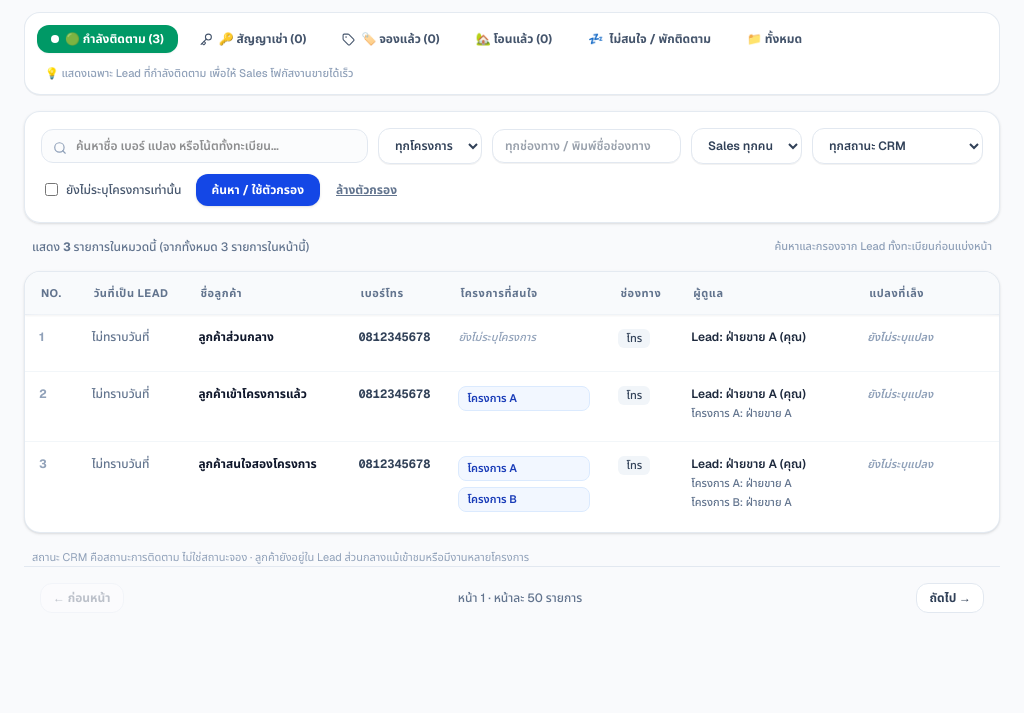
Test: central lead workspace › applies filters explicitly against the whole registry and resets pagination
This screenshot has width=1024, height=713.
(page scrolled)
Check: the table is shown, box x1=25 y1=272 x2=999 y2=532
Click the button "ถัดไป →".
click(950, 598)  # box x1=916 y1=583 x2=984 y2=613
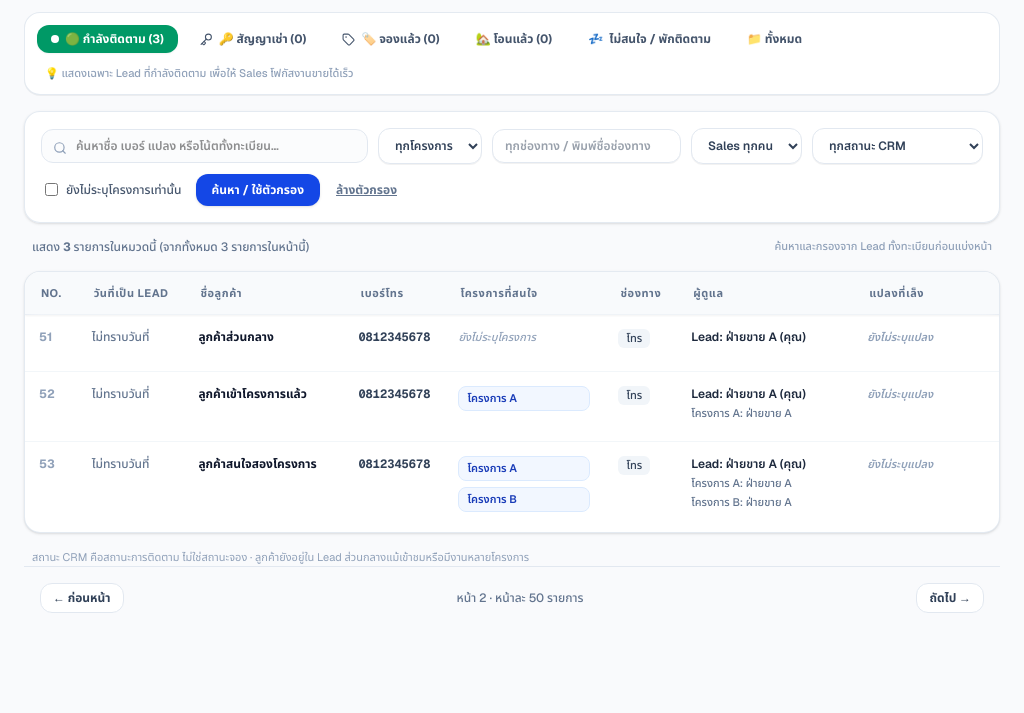
Check: the text "หน้า 2 · หน้าละ 50 รายการ" is shown, box x1=456 y1=590 x2=584 y2=606
Type "ลูกค้าส่วนกลาง" into the field named "ค้นหาลูกค้าทั้งทะเบียน".
click(204, 146); type("ลูกค้าส่วนกลาง")  # box x1=41 y1=128 x2=368 y2=162
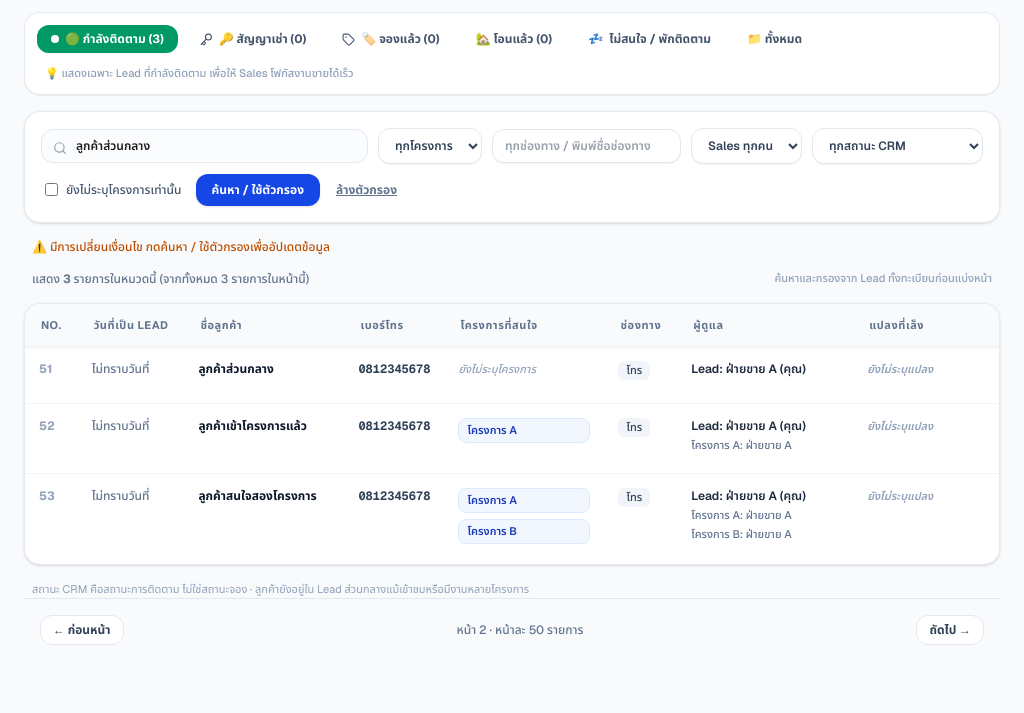
Check: the text "ลูกค้าสนใจสองโครงการ" is shown, box x1=198 y1=488 x2=330 y2=504
Click the button "ค้นหา / ใช้ตัวกรอง".
click(258, 190)  # box x1=196 y1=174 x2=320 y2=206
(page scrolled)
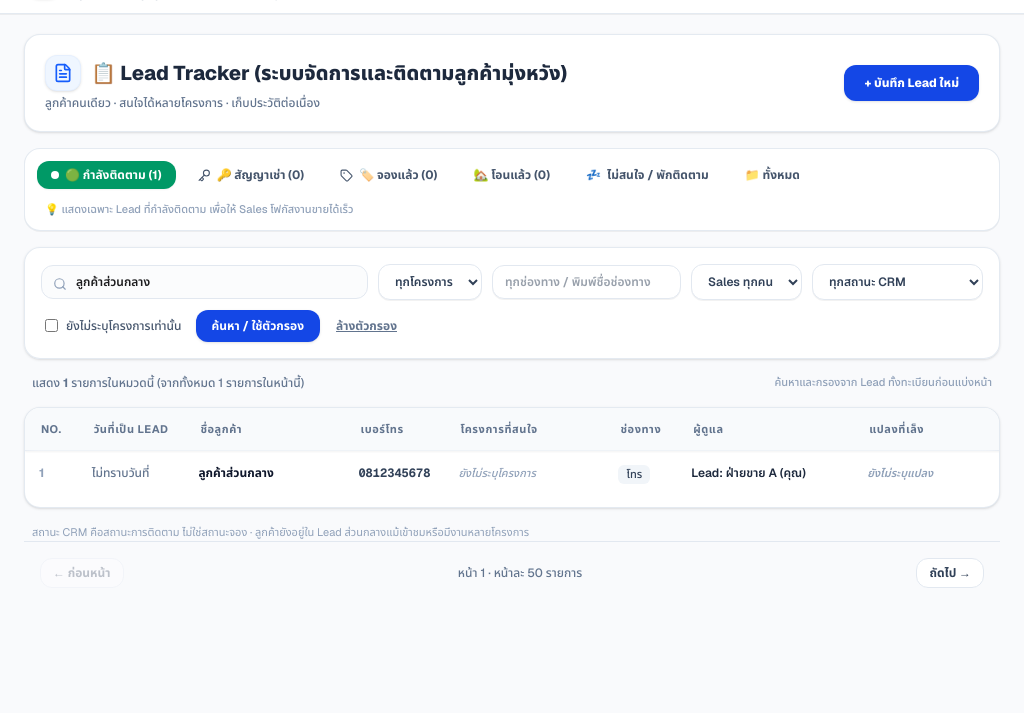
Check: the text "หน้า 1 · หน้าละ 50 รายการ" is shown, box x1=458 y1=565 x2=582 y2=581
Check: the text "ลูกค้าสนใจสองโครงการ" is gone
